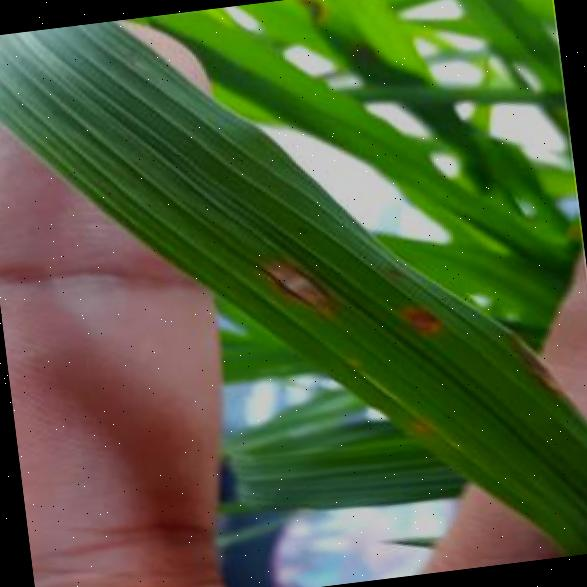Leaf_smut: (370, 274, 477, 376), (236, 221, 334, 331)
